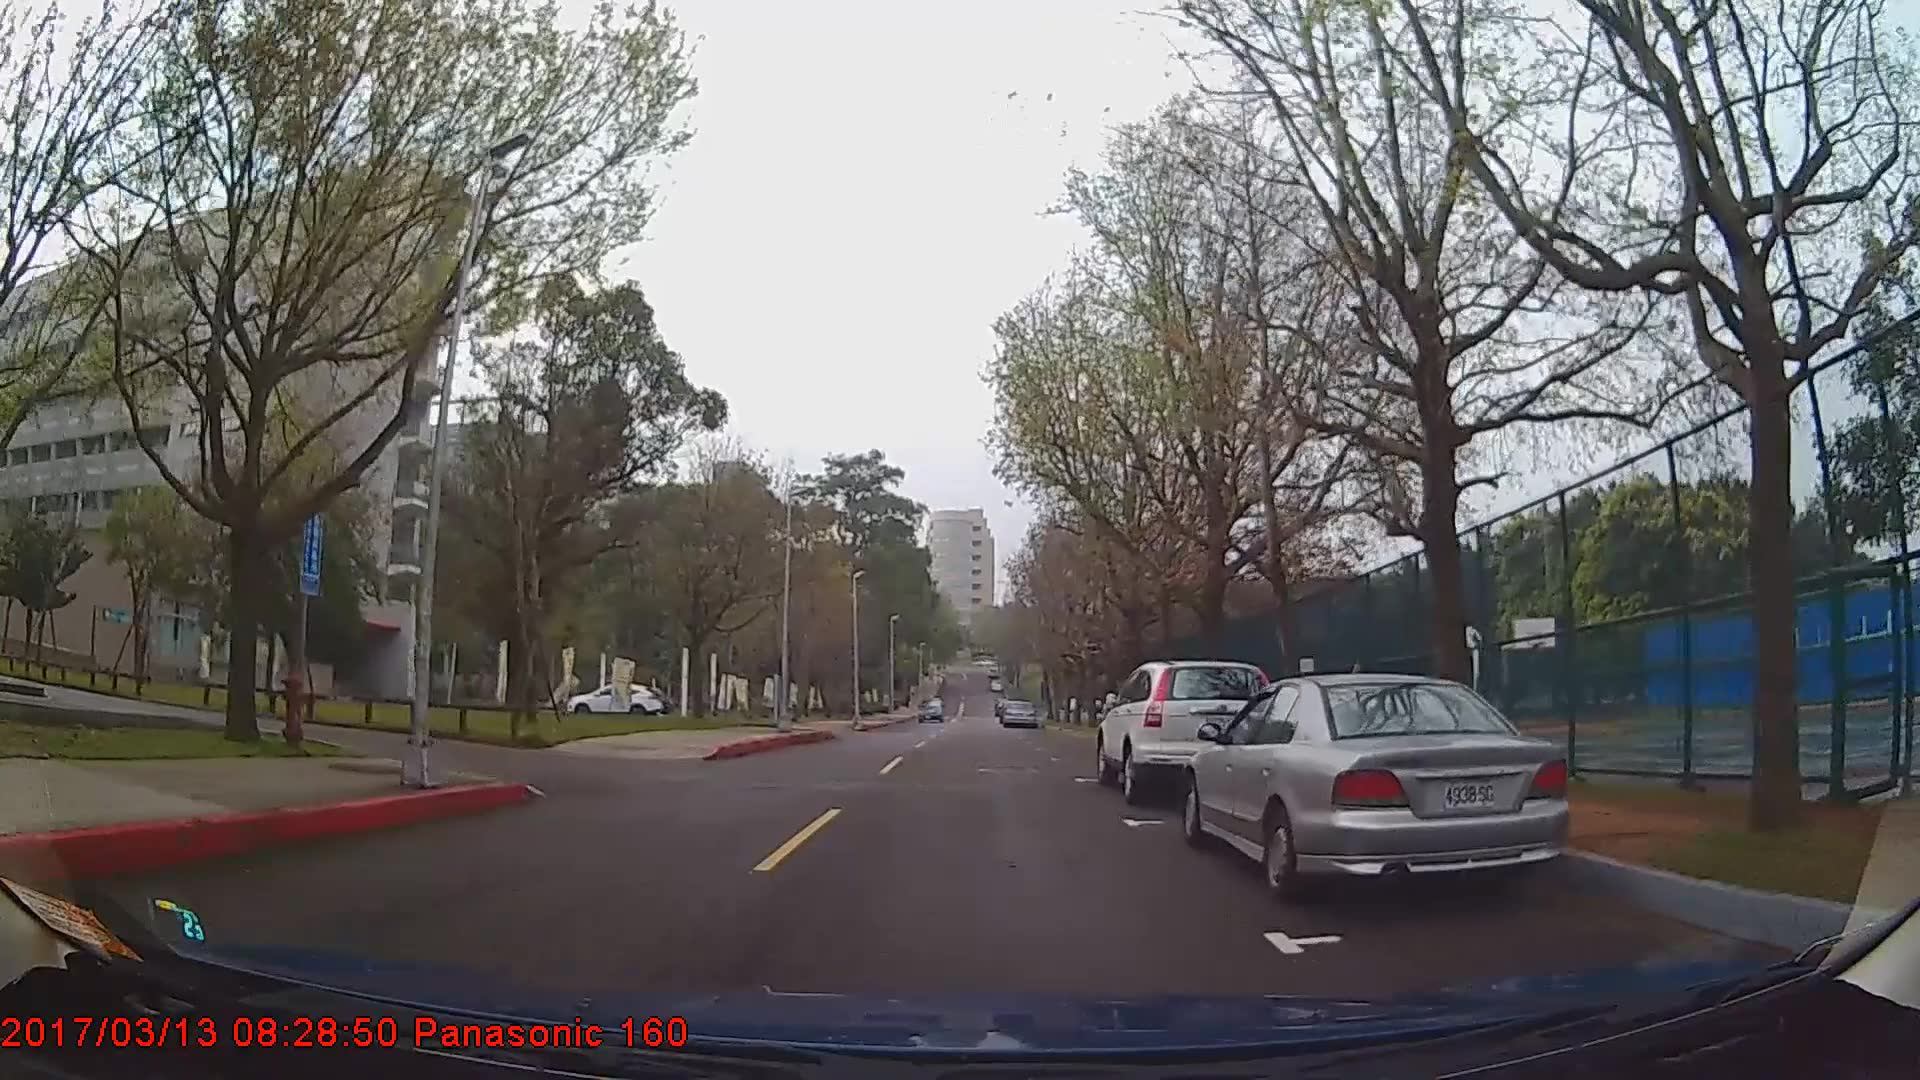vehicle: (1183, 674, 1572, 902), (1095, 662, 1280, 804), (568, 678, 666, 717), (998, 698, 1036, 729), (916, 694, 943, 723)
